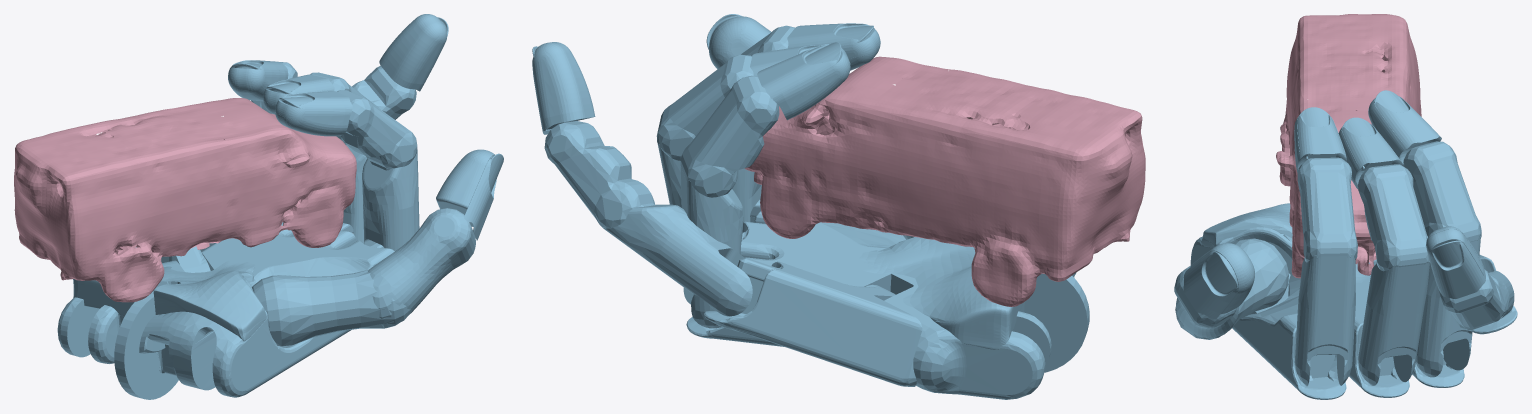
3 renders of one model, left to right at view 1: azimuth 30°, elevation 25°; view 2: azimuth 150°, elevation 25°; view 3: azimuth 270°, elevation 25°, orthographic. The views are drawn at different scales.
Parts seen in each view (by area): view 1: hand, world; view 2: hand, world; view 3: hand, world.
Part boxes in pixels (x1=…): hand: x1=57, y1=14, x2=503, y2=399; world: x1=14, y1=98, x2=356, y2=302; hand: x1=532, y1=14, x2=1089, y2=399; world: x1=744, y1=56, x2=1145, y2=306; hand: x1=1174, y1=90, x2=1517, y2=399; world: x1=1276, y1=14, x2=1421, y2=278.
Bounding box in the file's own units: 0.1907 × 0.1083 × 0.119.
